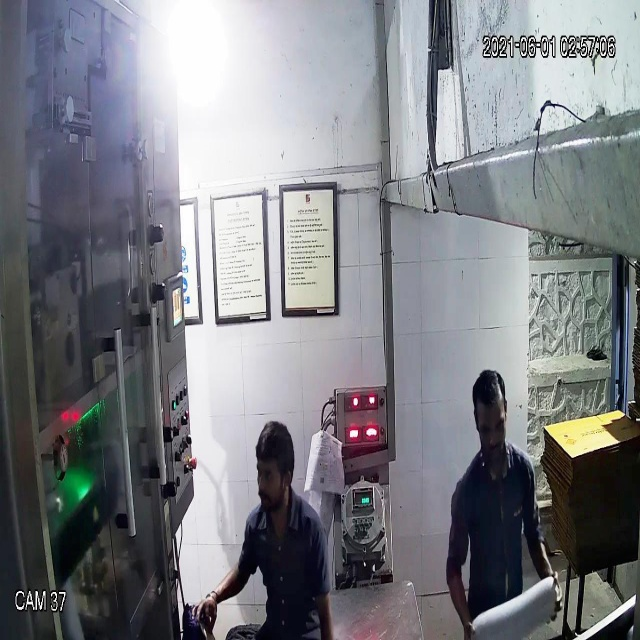Sin_gafas: (251, 461, 296, 492), (474, 412, 511, 444)
